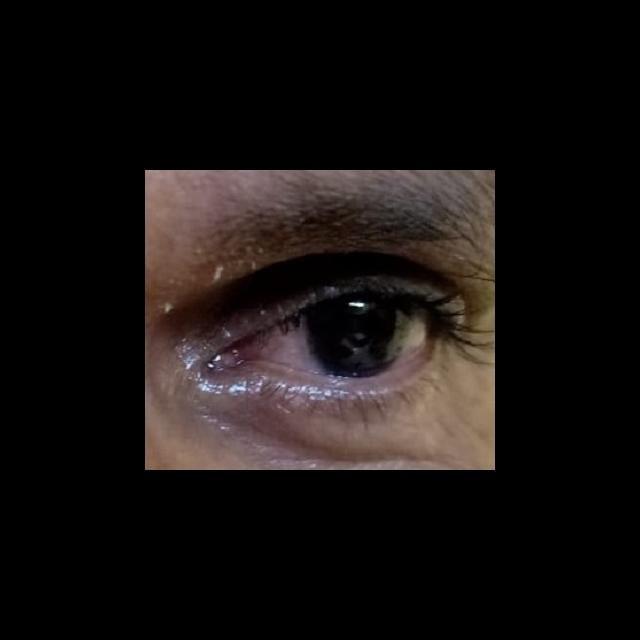eye: (242, 294, 432, 377)
iris: (307, 296, 411, 375)
